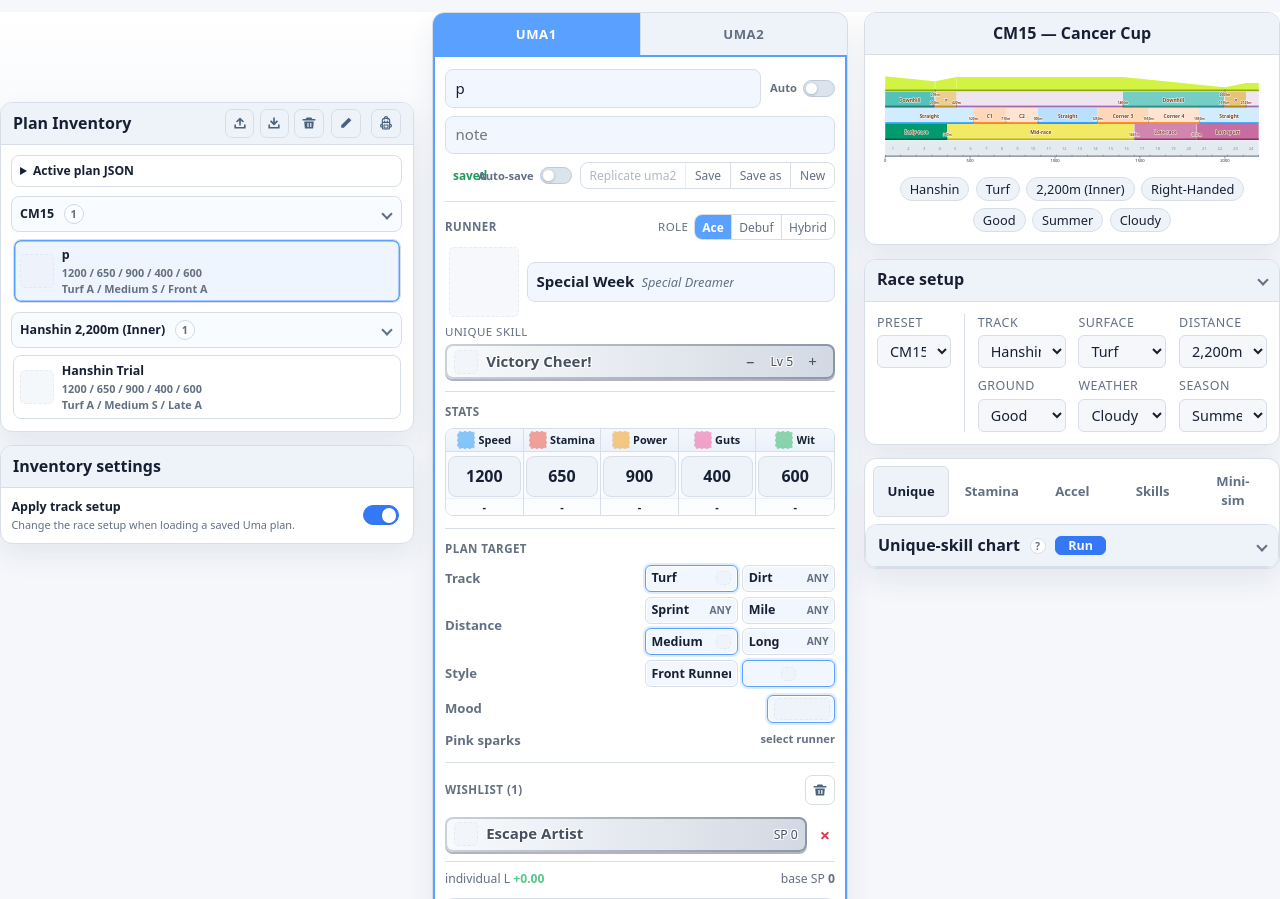
CmPlannerPage › collapses and expands inventory track groups
The width and height of the screenshot is (1280, 899).
expect the text "Hanshin Trial" is shown: met, box [62,361,144,378]
Click the button "Hanshin 2,200m (Inner) 1" at (194, 330), box [20,314,367,346]
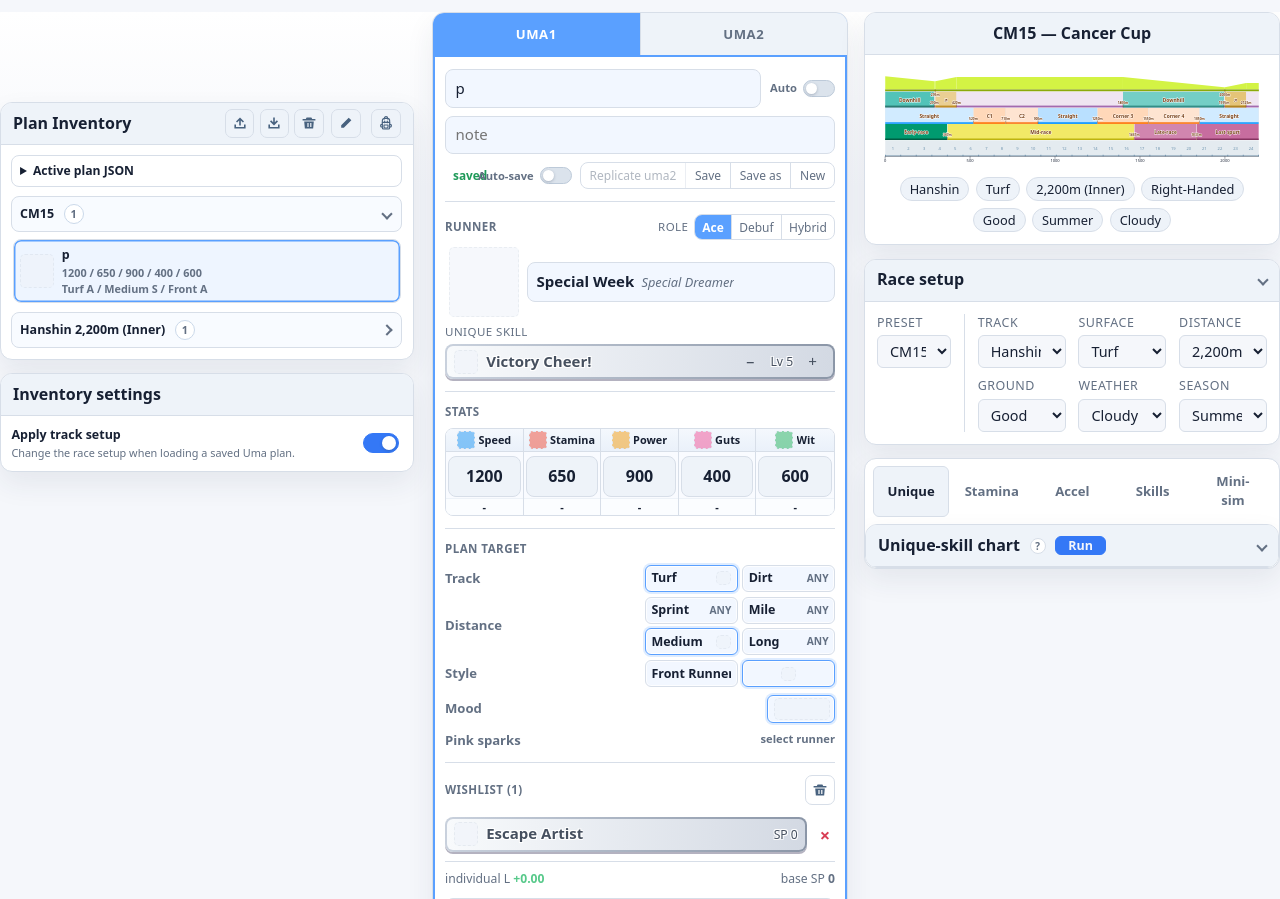
expect the button "Hanshin Trial" is gone: met
Click the button "Hanshin 2,200m (Inner) 1" at (194, 330), box [20,314,367,346]
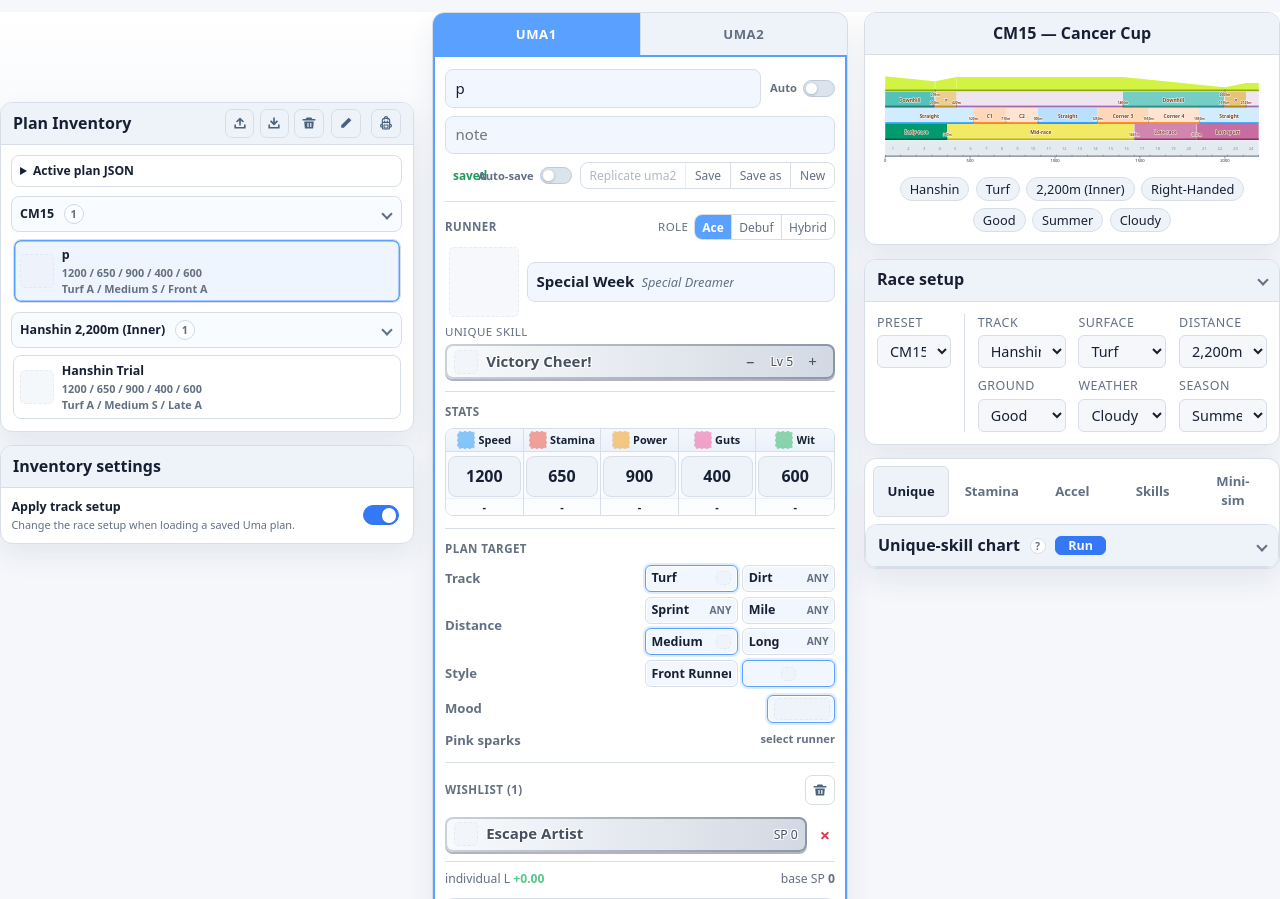
expect the text "Hanshin Trial" is shown: met, box [62,361,144,378]
